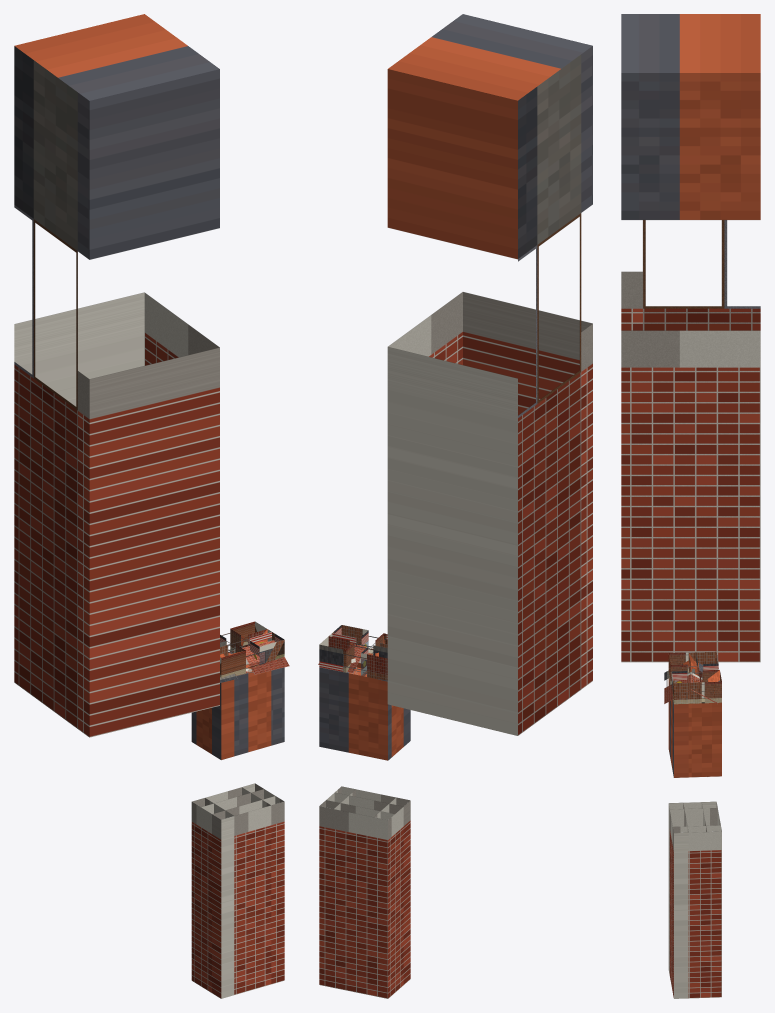
The picture shows the model from 3 angles, left to right: view 1: azimuth 30°, elevation 25°; view 2: azimuth 150°, elevation 25°; view 3: azimuth 270°, elevation 25°; orthographic projection. The views are drawn at different scales.
Parts seen in each view (by area): view 1: 1241125011__chimney_0_xb, 1241125011__wall_3_xb, 1241125011__wall_2_xb, 1241125011__wall_0_xb, 1241125011__cornice_0, 1241125011__wall_1_xb, 1241125011_roof_-1_xb, 1241125011__cornice_2, 1241125011__cornice_3; view 2: 1241125011__chimney_0_xb, 1241125011__wall_1_xb, 1241125011__wall_2_xb, 1241125011__wall_3_xb, 1241125011__cornice_1, 1241125011__cornice_3; view 3: 1241125011__chimney_0_xb, 1241125011__wall_0_xb, 1241125011__wall_3_xb, 1241125011__wall_2_xb, 1241125011__cornice_0, 1241125011__cornice_3, 1241125011__cornice_2, 1241125011__cornice_1.
Part boxes in pixels (bbox=[...]): 1241125011__chimney_0_xb: bbox=[14, 14, 219, 737]; 1241125011__wall_3_xb: bbox=[212, 664, 275, 998]; 1241125011__wall_2_xb: bbox=[191, 680, 234, 998]; 1241125011__wall_0_xb: bbox=[242, 667, 284, 984]; 1241125011__cornice_0: bbox=[230, 621, 284, 664]; 1241125011__wall_1_xb: bbox=[191, 651, 263, 977]; 1241125011_roof_-1_xb: bbox=[220, 640, 289, 682]; 1241125011__cornice_2: bbox=[220, 635, 245, 677]; 1241125011__cornice_3: bbox=[220, 629, 284, 672]; 1241125011__chimney_0_xb: bbox=[387, 14, 592, 735]; 1241125011__wall_1_xb: bbox=[319, 667, 394, 998]; 1241125011__wall_2_xb: bbox=[374, 704, 403, 998]; 1241125011__wall_3_xb: bbox=[334, 653, 410, 984]; 1241125011__cornice_1: bbox=[319, 633, 387, 680]; 1241125011__cornice_3: bbox=[328, 625, 387, 660]; 1241125011__chimney_0_xb: bbox=[621, 14, 760, 662]; 1241125011__wall_0_xb: bbox=[672, 700, 721, 998]; 1241125011__wall_3_xb: bbox=[669, 682, 688, 998]; 1241125011__wall_2_xb: bbox=[668, 678, 717, 973]; 1241125011__cornice_0: bbox=[671, 670, 721, 703]; 1241125011__cornice_3: bbox=[670, 652, 701, 704]; 1241125011__cornice_2: bbox=[668, 652, 718, 684]; 1241125011__cornice_1: bbox=[688, 651, 718, 702].
Bounding box in the file's own units: 0.2571 × 1.05 × 0.15.
Materials: 1 (1 with a texture image).
